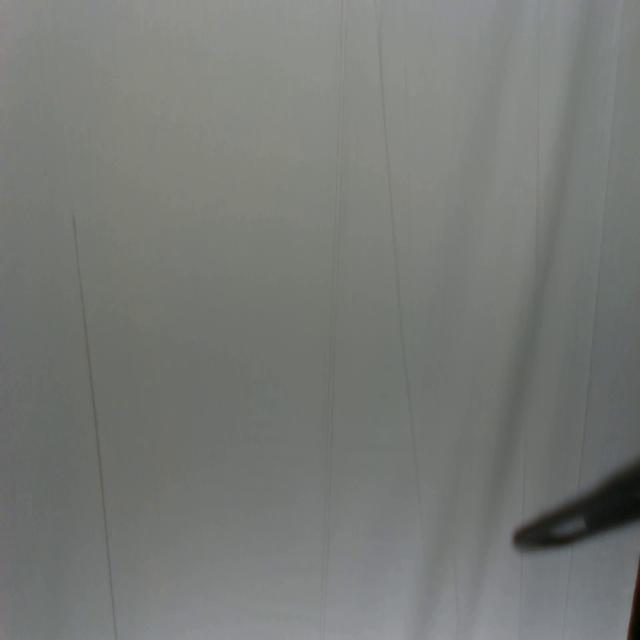crease: (377, 23, 426, 526), (580, 2, 626, 459), (71, 216, 119, 640), (320, 0, 347, 640), (535, 70, 544, 309)
